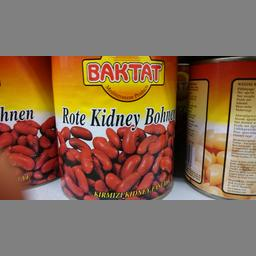beans: (50, 55, 180, 201), (0, 54, 49, 196)
